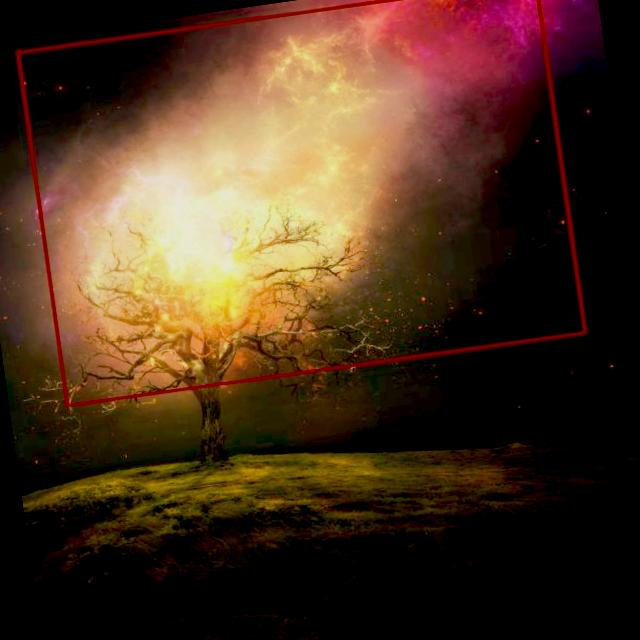fire: (17, 0, 588, 406)
